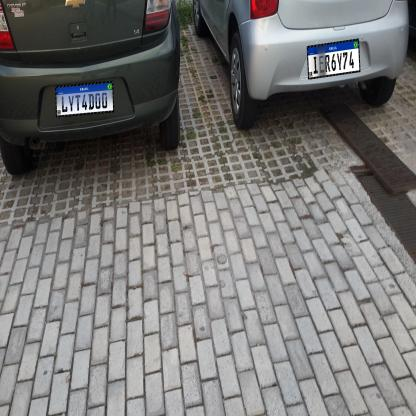PlacaM: (307, 38, 360, 80), (55, 81, 114, 117)
